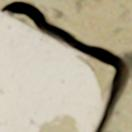brick: (0, 13, 100, 131)
crack: (0, 0, 130, 131)
